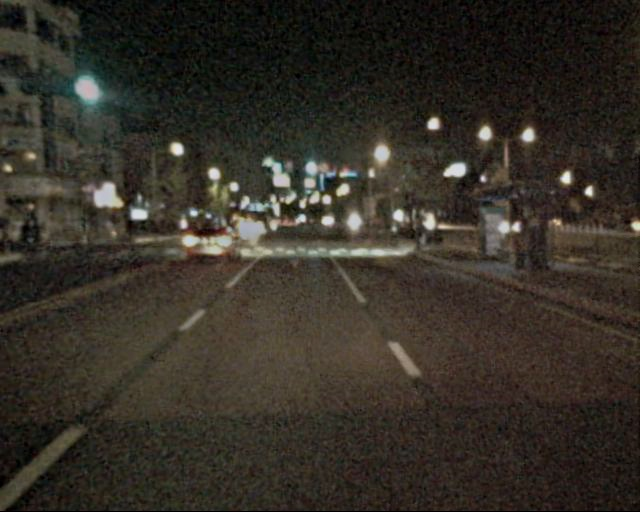person: (527, 217, 551, 277), (511, 220, 533, 278)
